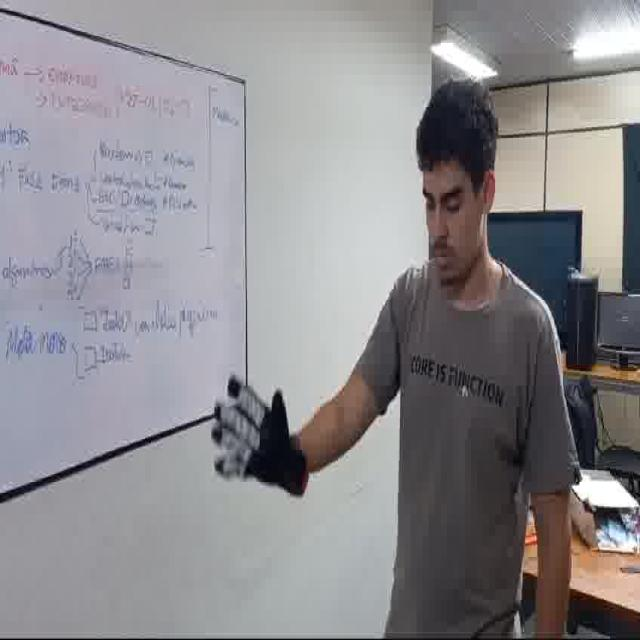Gloves: (210, 370, 310, 508)
